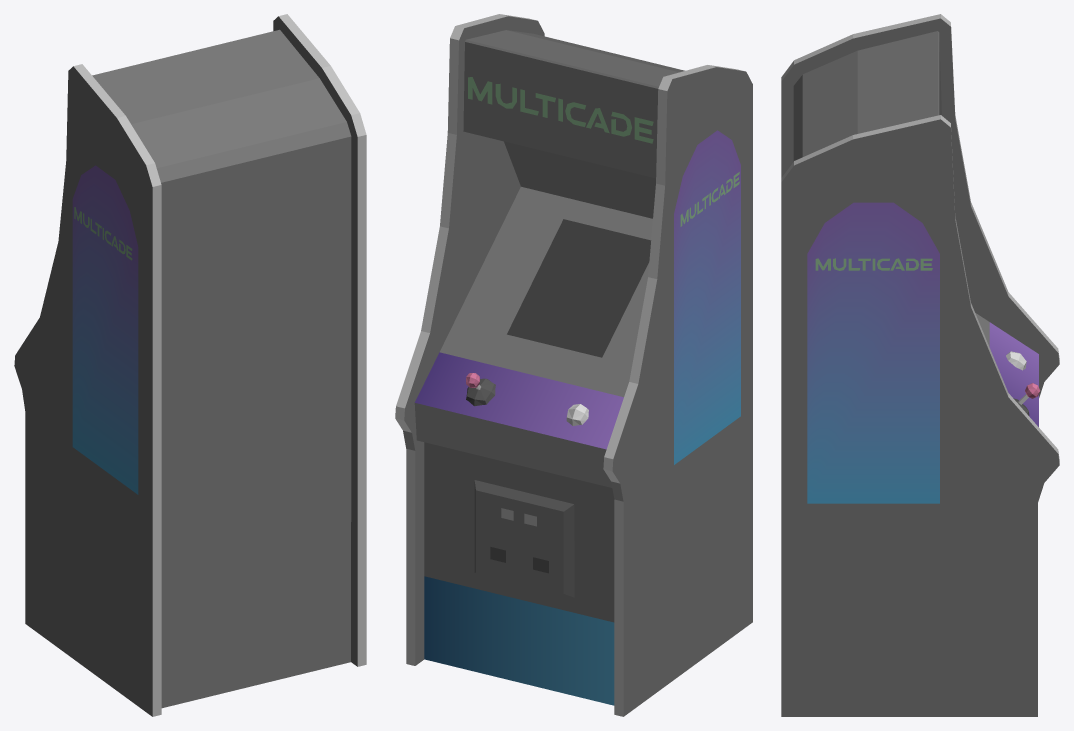
Rendered from arcade_machine.glb.
3 renders of one model, left to right at view 1: azimuth 30°, elevation 25°; view 2: azimuth 150°, elevation 25°; view 3: azimuth 270°, elevation 25°, orthographic.
Visible parts, largest first — view 1: furniture_039; view 2: furniture_039; view 3: furniture_039.
Part boxes in pixels (x1,y1,x2,y2): furniture_039: (14,14,366,716); furniture_039: (395,14,752,716); furniture_039: (781,14,1059,716).
Bounding box in the file's own units: 0.6952 × 1.77 × 0.7496.
